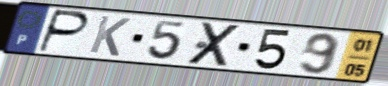5: (143, 19, 190, 61), (253, 28, 293, 71)
9: (298, 32, 342, 76)
K: (87, 14, 134, 58)
P: (35, 8, 92, 54)
X: (184, 21, 246, 68)
